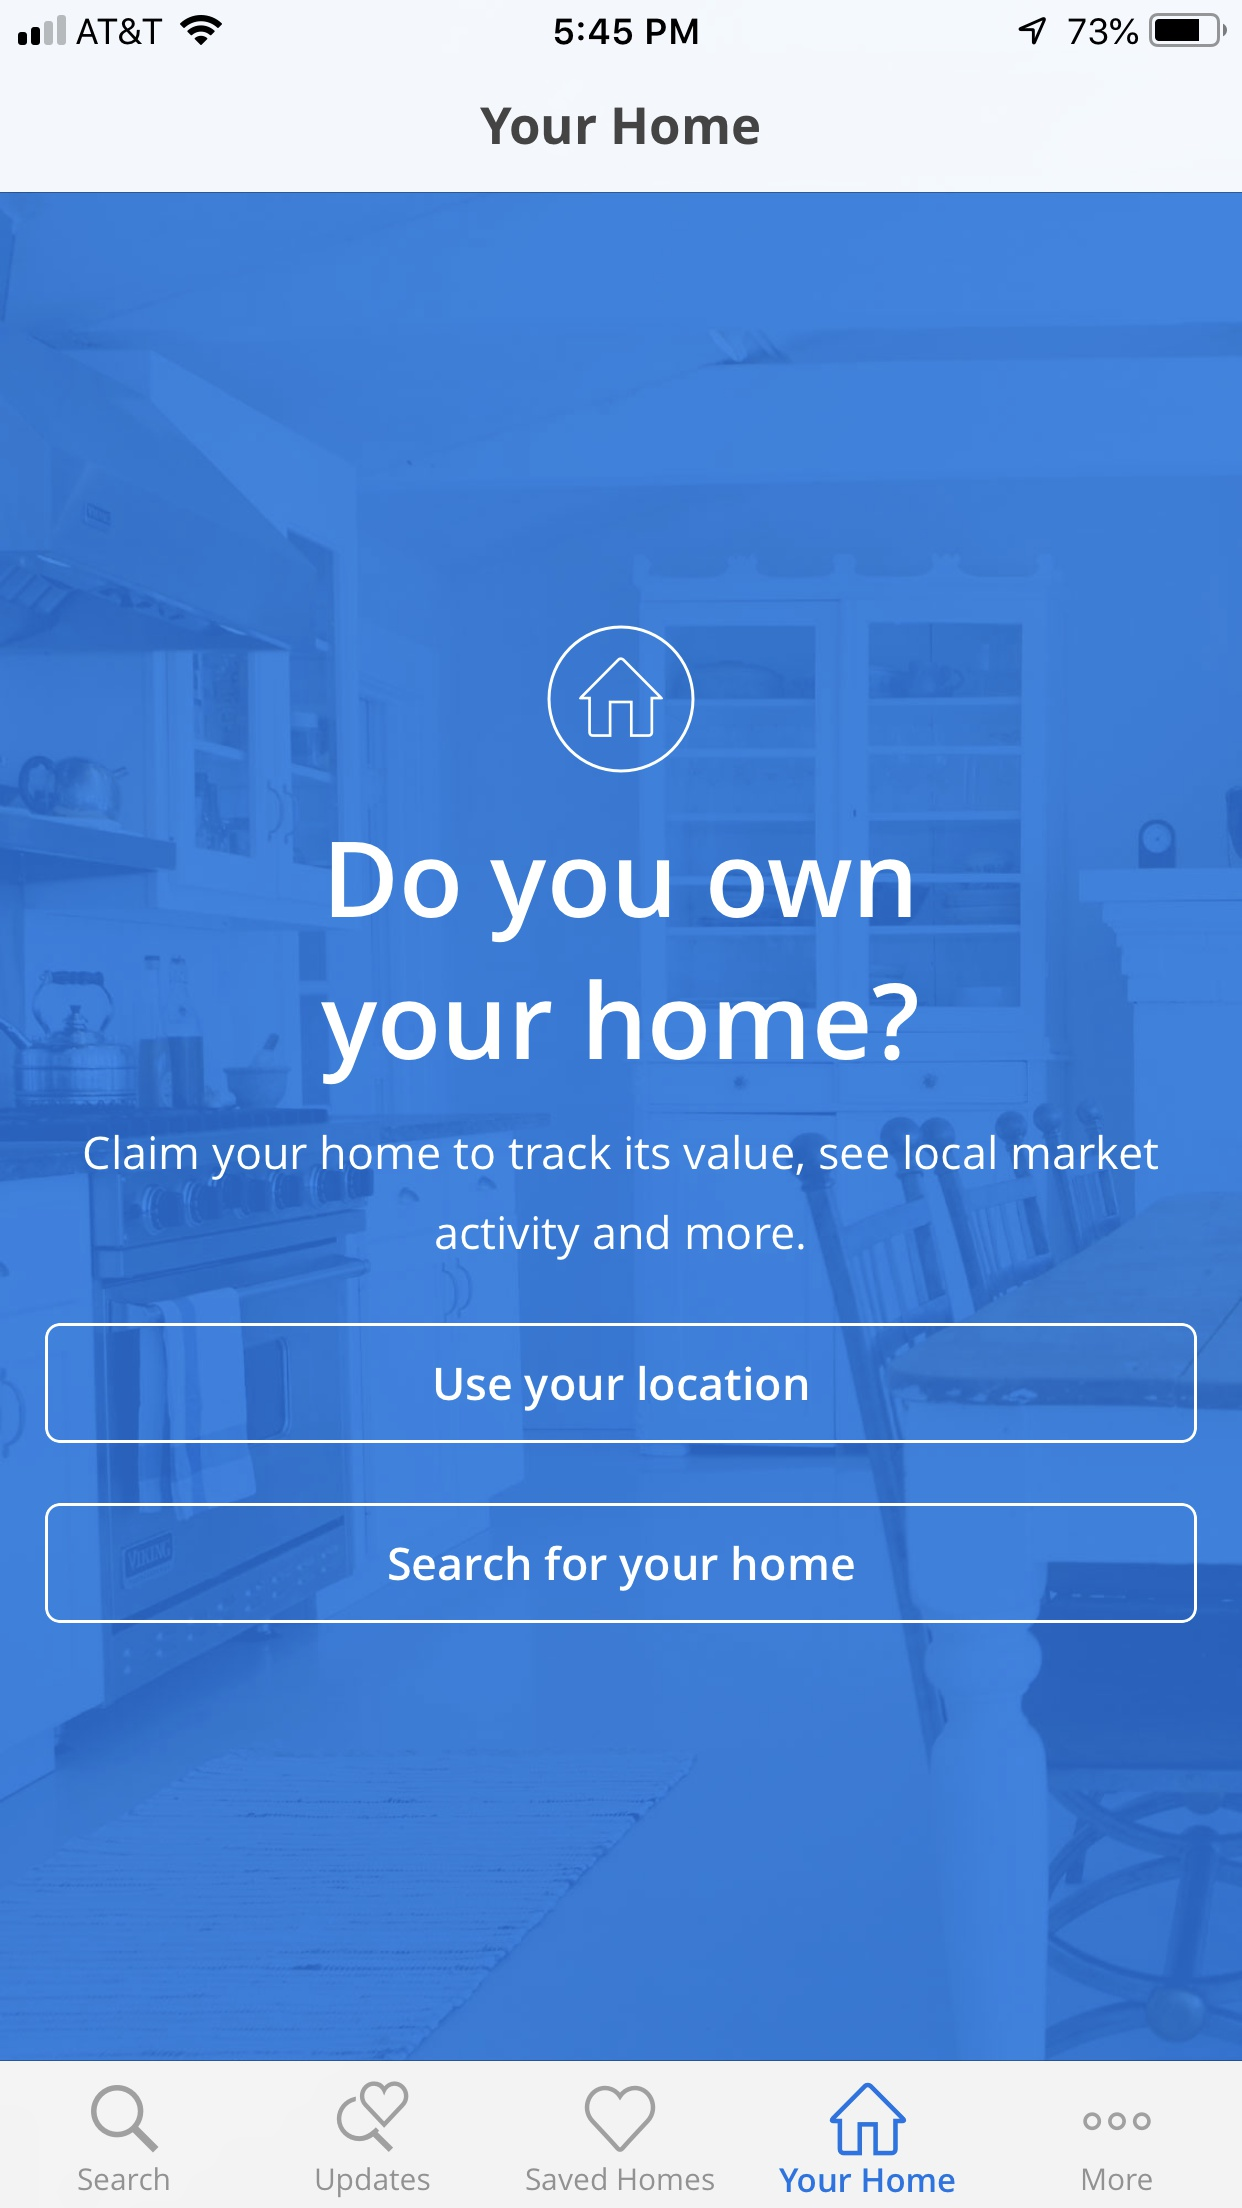BackgroundImage: (2, 193, 1242, 2061)
Icon: (546, 623, 696, 773), (830, 2084, 907, 2156), (337, 2081, 409, 2153), (91, 2084, 161, 2153), (585, 2085, 657, 2153), (1083, 2111, 1153, 2131)
Text: (320, 842, 917, 1086), (83, 1134, 1159, 1262), (481, 108, 760, 147), (526, 2166, 714, 2191), (778, 2167, 955, 2193), (315, 2166, 432, 2199), (77, 2166, 171, 2191), (1083, 2167, 1153, 2191)
TextButton: (45, 1501, 1198, 1624), (45, 1322, 1198, 1444)
UpperTaskBar: (2, 2, 1242, 49)
